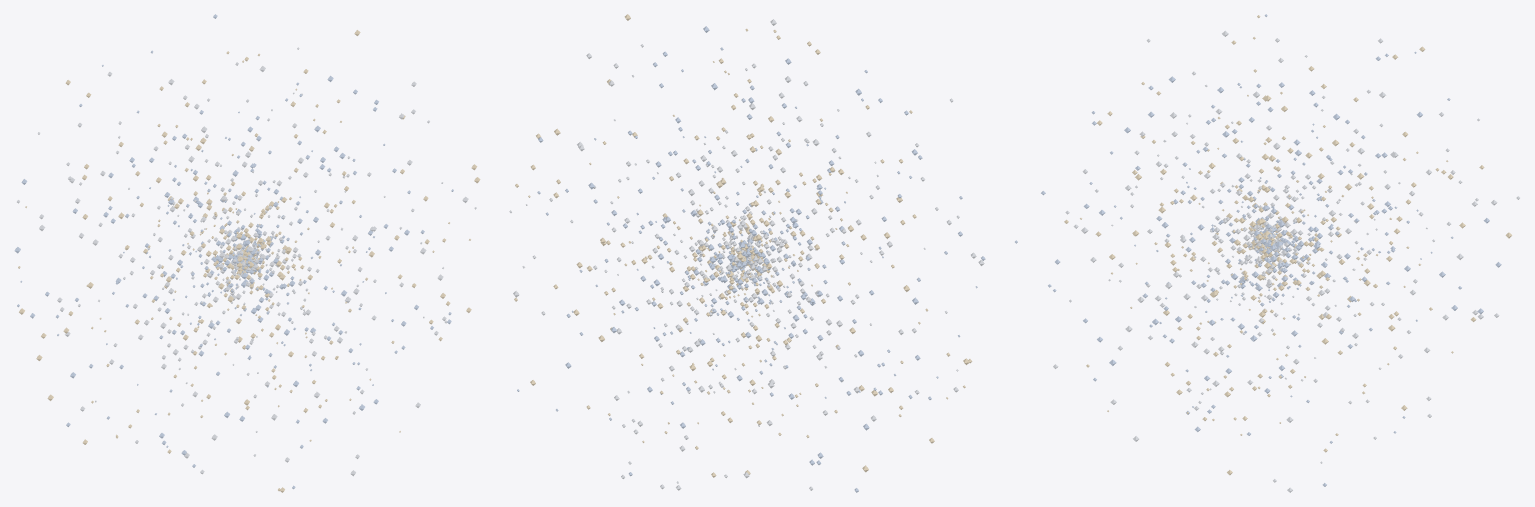
3 views of the same model, side by side, from view 1: azimuth 30°, elevation 25°; view 2: azimuth 150°, elevation 25°; view 3: azimuth 270°, elevation 25° (orthographic). The views are drawn at different scales.
Bounding box in the file's own units: 4.94 × 4.98 × 5.17.
